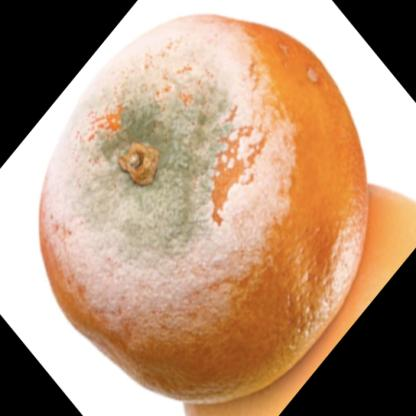rotten: (43, 14, 370, 402)
